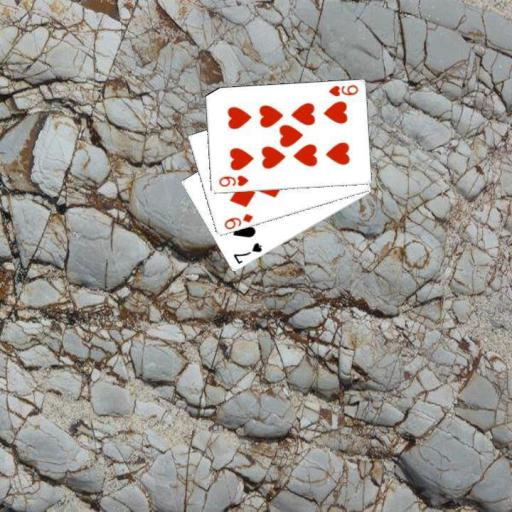card-corner: (231, 240, 263, 266), (221, 211, 255, 231), (325, 82, 359, 98), (216, 173, 250, 188)
